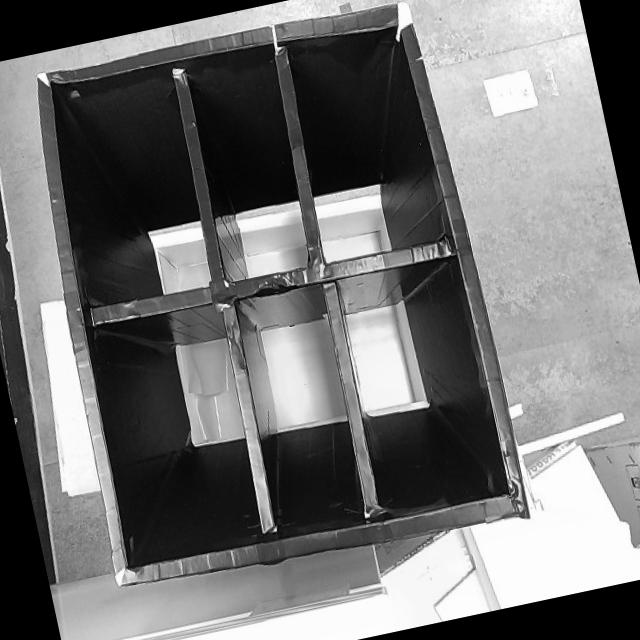box: (0, 0, 536, 601)
